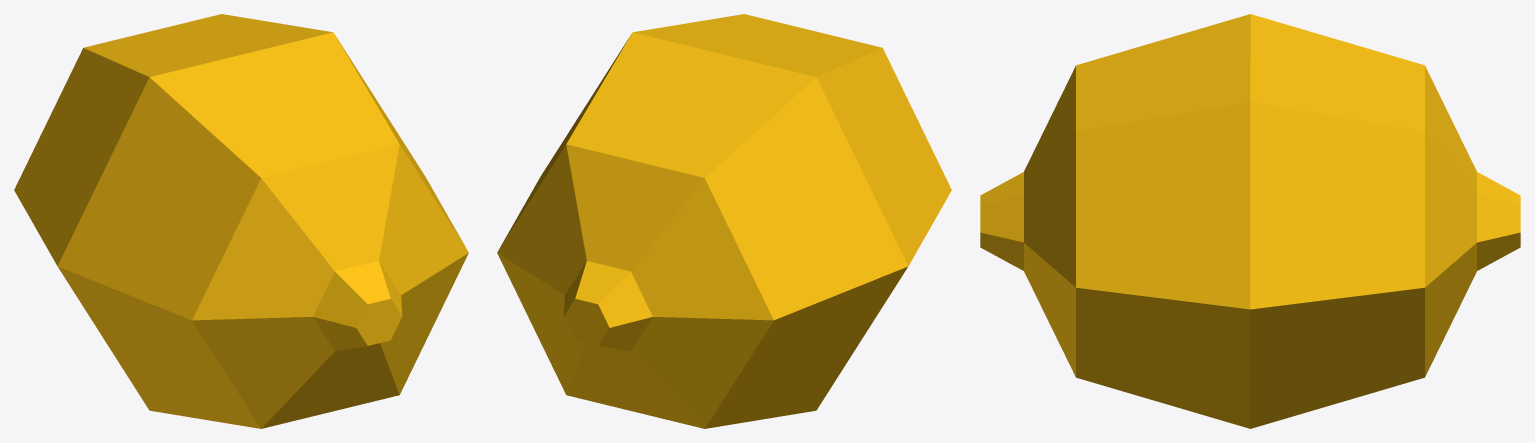
Rendered from TB_Prop_Lemon_A.FBX.
The picture shows the model from 3 angles, left to right: view 1: azimuth 30°, elevation 25°; view 2: azimuth 150°, elevation 25°; view 3: azimuth 270°, elevation 25°; orthographic projection.
Visible parts, largest first — view 1: TB_Prop_Lemon_A; view 2: TB_Prop_Lemon_A; view 3: TB_Prop_Lemon_A.
Boxes of the visible parts, left/top/right/bottom form: TB_Prop_Lemon_A: left=14, top=14, right=468, bottom=428; TB_Prop_Lemon_A: left=497, top=14, right=951, bottom=428; TB_Prop_Lemon_A: left=980, top=14, right=1520, bottom=428.
Size of the model in its own units: 0.2017 by 0.1747 by 0.2617.
